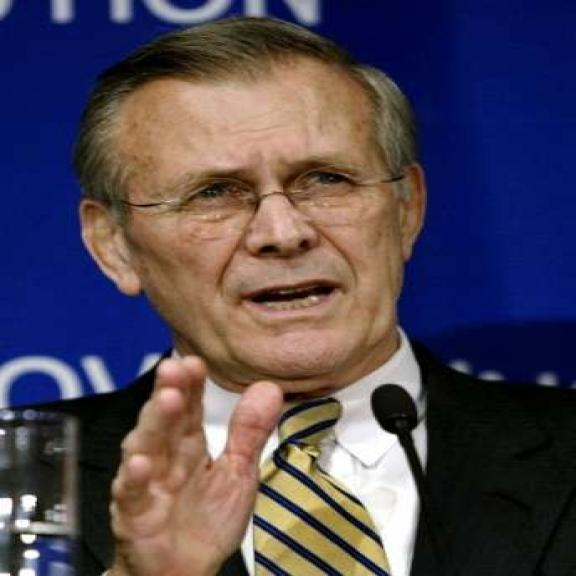face: (67, 63, 433, 387)
